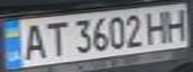0: (106, 13, 127, 51)
2: (124, 11, 148, 48)
3: (69, 16, 93, 54)
6: (90, 15, 112, 52)
A: (15, 20, 51, 61)
H: (142, 8, 172, 45), (163, 6, 190, 43)
T: (39, 19, 69, 58)
